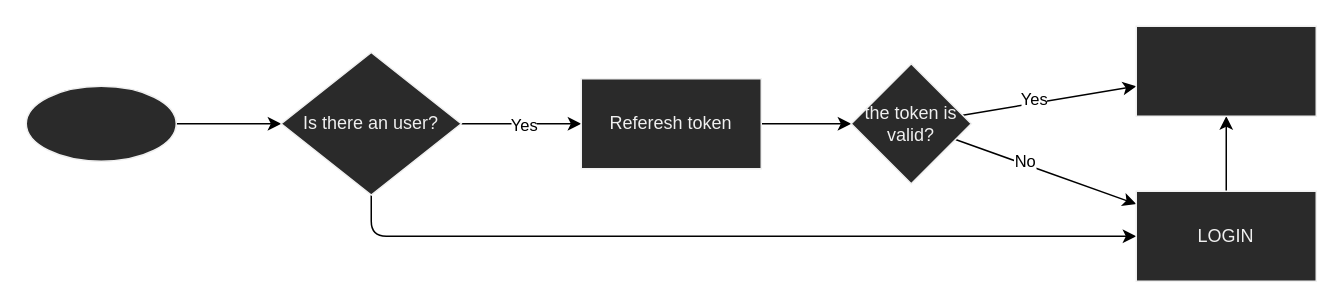
Some shapes in this 1343 by 308 pixel diagram are drawn without their labels. Here are the shapes that lost their labels. From the top down, the box of each, then its label:
(1135, 25, 1316, 116): APP
(25, 85, 176, 161): User open the app
